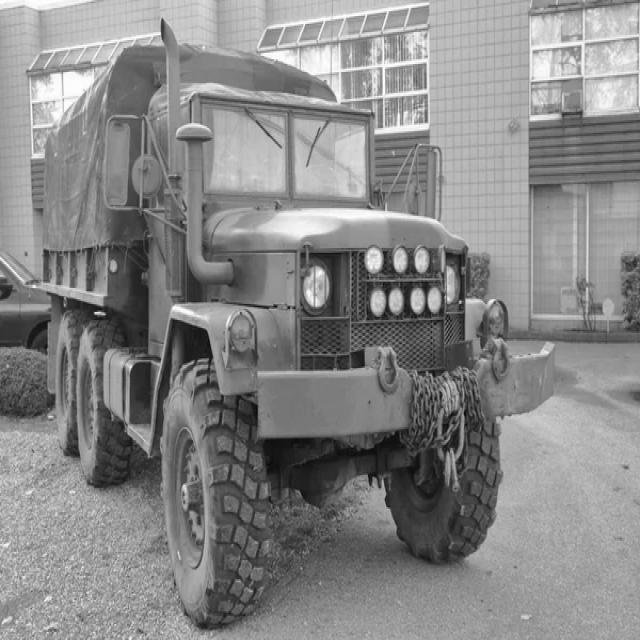Truck: (41, 19, 556, 629)
